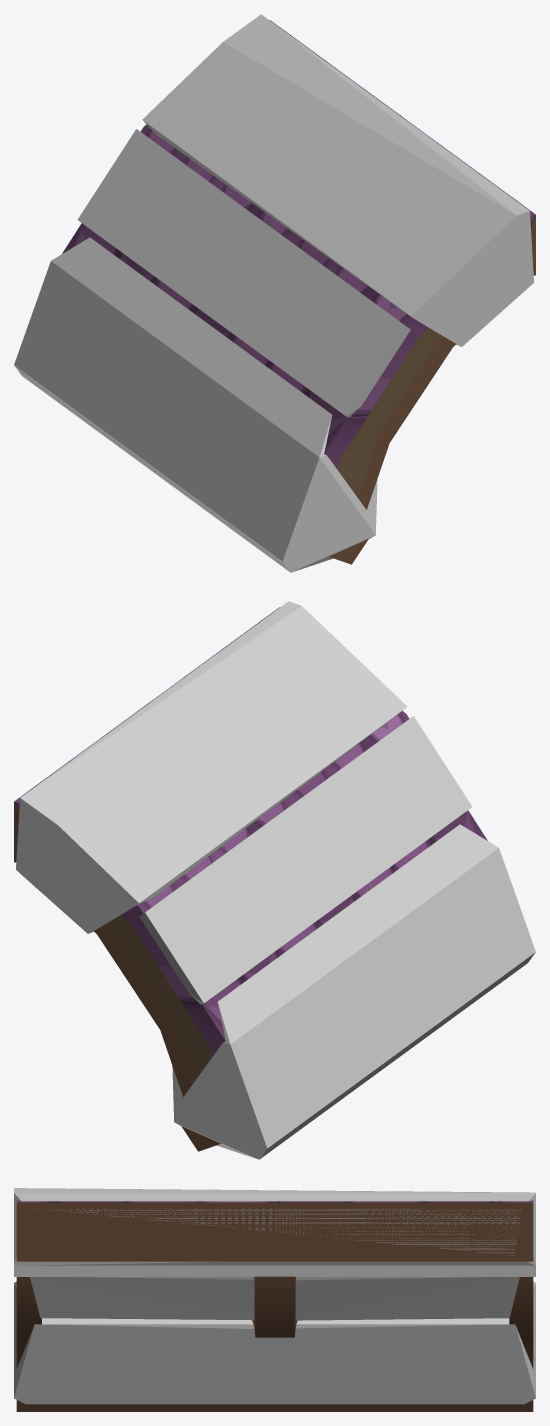
File: SM_Bld_Roof_Convex_Small_01.fbx
3 views of the same model, one above another, from view 1: azimuth 30°, elevation 25°; view 2: azimuth 150°, elevation 25°; view 3: azimuth 270°, elevation 25° (orthographic). The views are drawn at different scales.
Parts seen in each view (by area): view 1: SM_Bld_Roof_Convex_Small_01_ConvexHulls, SM_Bld_Roof_Convex_Small_01; view 2: SM_Bld_Roof_Convex_Small_01_ConvexHulls, SM_Bld_Roof_Convex_Small_01; view 3: SM_Bld_Roof_Convex_Small_01_ConvexHulls, SM_Bld_Roof_Convex_Small_01.
Part boxes in pixels (x1,y1,x2,y2): SM_Bld_Roof_Convex_Small_01_ConvexHulls: (14, 14, 533, 572); SM_Bld_Roof_Convex_Small_01: (22, 20, 535, 564); SM_Bld_Roof_Convex_Small_01_ConvexHulls: (16, 601, 535, 1159); SM_Bld_Roof_Convex_Small_01: (14, 607, 527, 1151); SM_Bld_Roof_Convex_Small_01_ConvexHulls: (14, 1188, 535, 1404); SM_Bld_Roof_Convex_Small_01: (16, 1200, 533, 1411).
Size of the model in its own units: 138 by 253 by 162.
4 materials, 3 textured.
